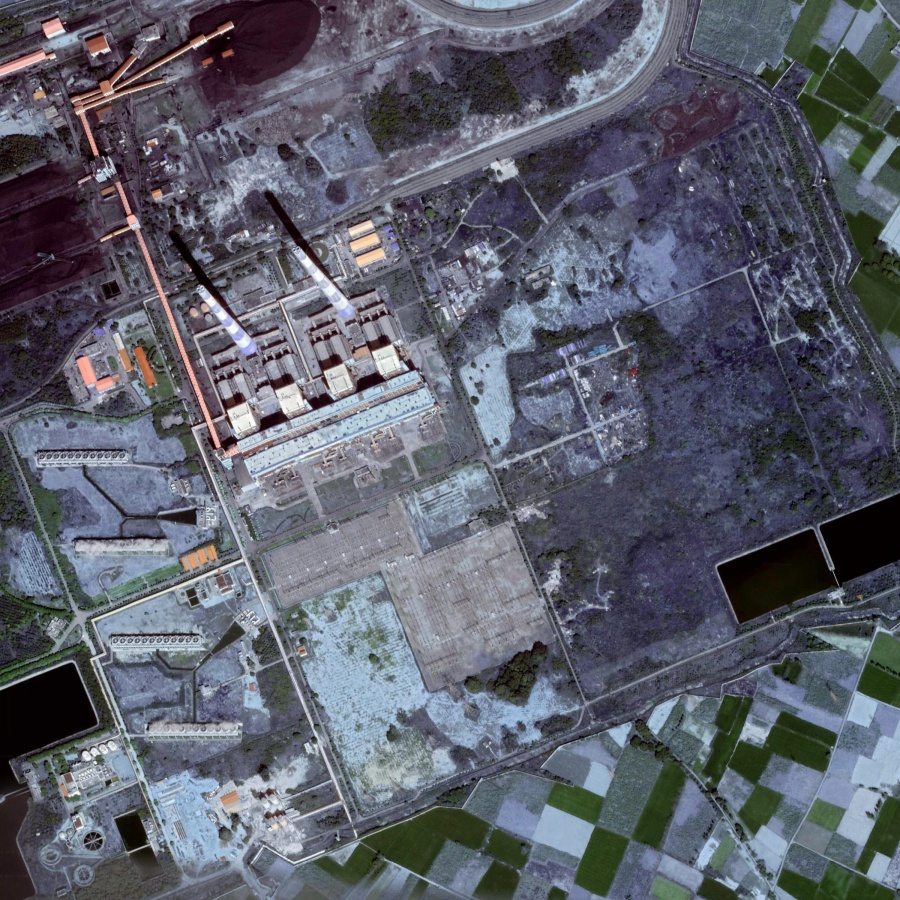PowerPlant: (158, 183, 395, 388)
